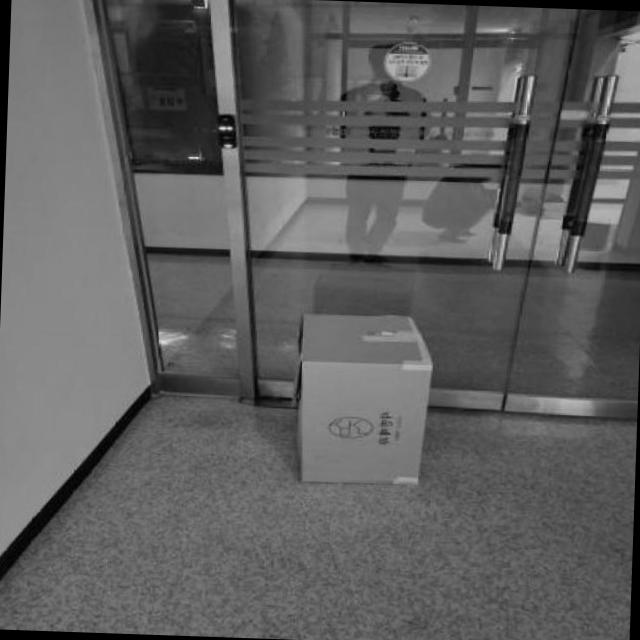box: (284, 296, 442, 495)
